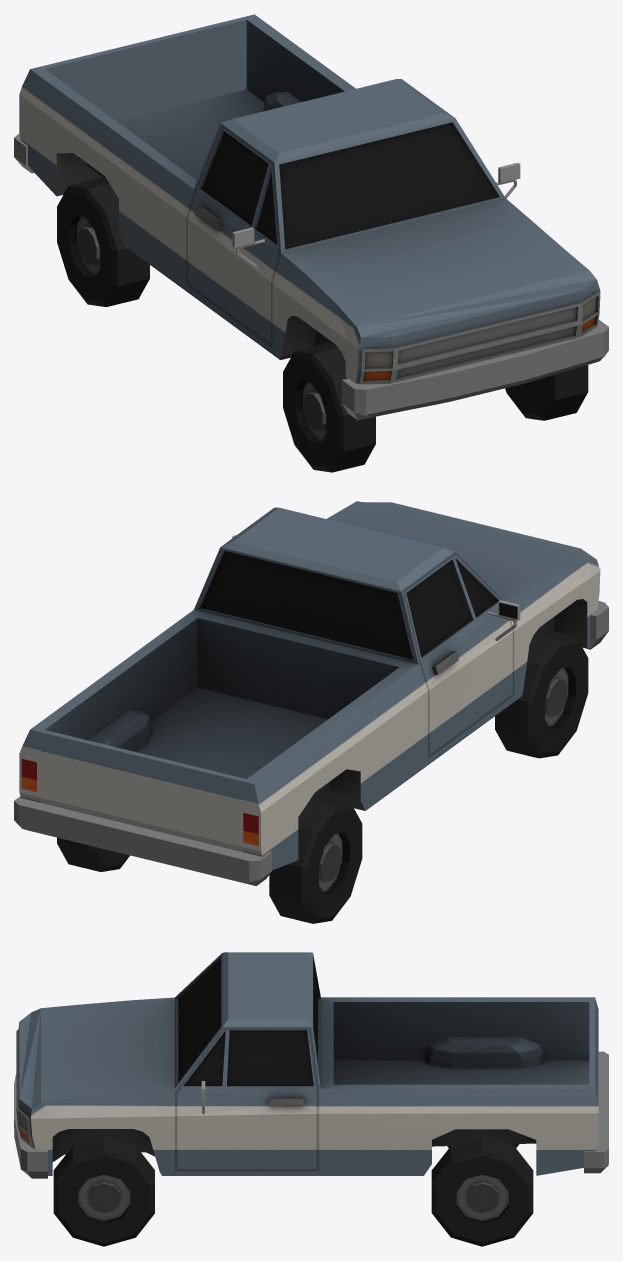
The model's file is Low_Poly_Pickup_Truck.glb.
The picture shows the model from 3 angles, top to bottom: view 1: azimuth 30°, elevation 25°; view 2: azimuth 150°, elevation 25°; view 3: azimuth 270°, elevation 25°; orthographic projection. The views are drawn at different scales.
Parts seen in each view (by area): view 1: Pickup_Body_Pickup_Truck_mat_0, Pickup_Wheel_Right_Pickup_Truck_mat_0 (×2), Pickup_Trunk_Pickup_Truck_mat_0, Pickup_FrontBumper_Pickup_Truck_mat_0, Pickup_Wheel_Left_Pickup_Truck_mat_0; view 2: Pickup_Body_Pickup_Truck_mat_0, Pickup_Wheel_Right_Pickup_Truck_mat_0 (×2), Pickup_Trunk_Pickup_Truck_mat_0, Pickup_Rear_Pickup_Truck_mat_0, Pickup_Wheel_Left_Pickup_Truck_mat_0, Pickup_FrontBumper_Pickup_Truck_mat_0; view 3: Pickup_Body_Pickup_Truck_mat_0, Pickup_Wheel_Left_Pickup_Truck_mat_0 (×2), Pickup_Rear_Pickup_Truck_mat_0, Pickup_FrontBumper_Pickup_Truck_mat_0, Pickup_Trunk_Pickup_Truck_mat_0.
Part boxes in pixels (x1,y1,x2,y2): Pickup_Body_Pickup_Truck_mat_0: (19,14,600,384); Pickup_Wheel_Right_Pickup_Truck_mat_0 (×2): (57,178,375,472); Pickup_Trunk_Pickup_Truck_mat_0: (42,17,246,120); Pickup_FrontBumper_Pickup_Truck_mat_0: (342,319,608,420); Pickup_Wheel_Left_Pickup_Truck_mat_0: (505,365,588,420); Pickup_Body_Pickup_Truck_mat_0: (19,501,600,870); Pickup_Wheel_Right_Pickup_Truck_mat_0 (×2): (269,629,588,923); Pickup_Trunk_Pickup_Truck_mat_0: (39,730,246,851); Pickup_Rear_Pickup_Truck_mat_0: (14,796,271,885); Pickup_Wheel_Left_Pickup_Truck_mat_0: (57,837,129,871); Pickup_FrontBumper_Pickup_Truck_mat_0: (582,601,608,649); Pickup_Body_Pickup_Truck_mat_0: (16,952,598,1175); Pickup_Wheel_Left_Pickup_Truck_mat_0 (×2): (53,1137,533,1246); Pickup_Rear_Pickup_Truck_mat_0: (584,1051,608,1173); Pickup_FrontBumper_Pickup_Truck_mat_0: (14,1074,47,1178); Pickup_Trunk_Pickup_Truck_mat_0: (589,1002,598,1098).
Size of the model in its own units: 6.46 by 5.45 by 13.93.
Materials: 1 (1 with a texture image).
